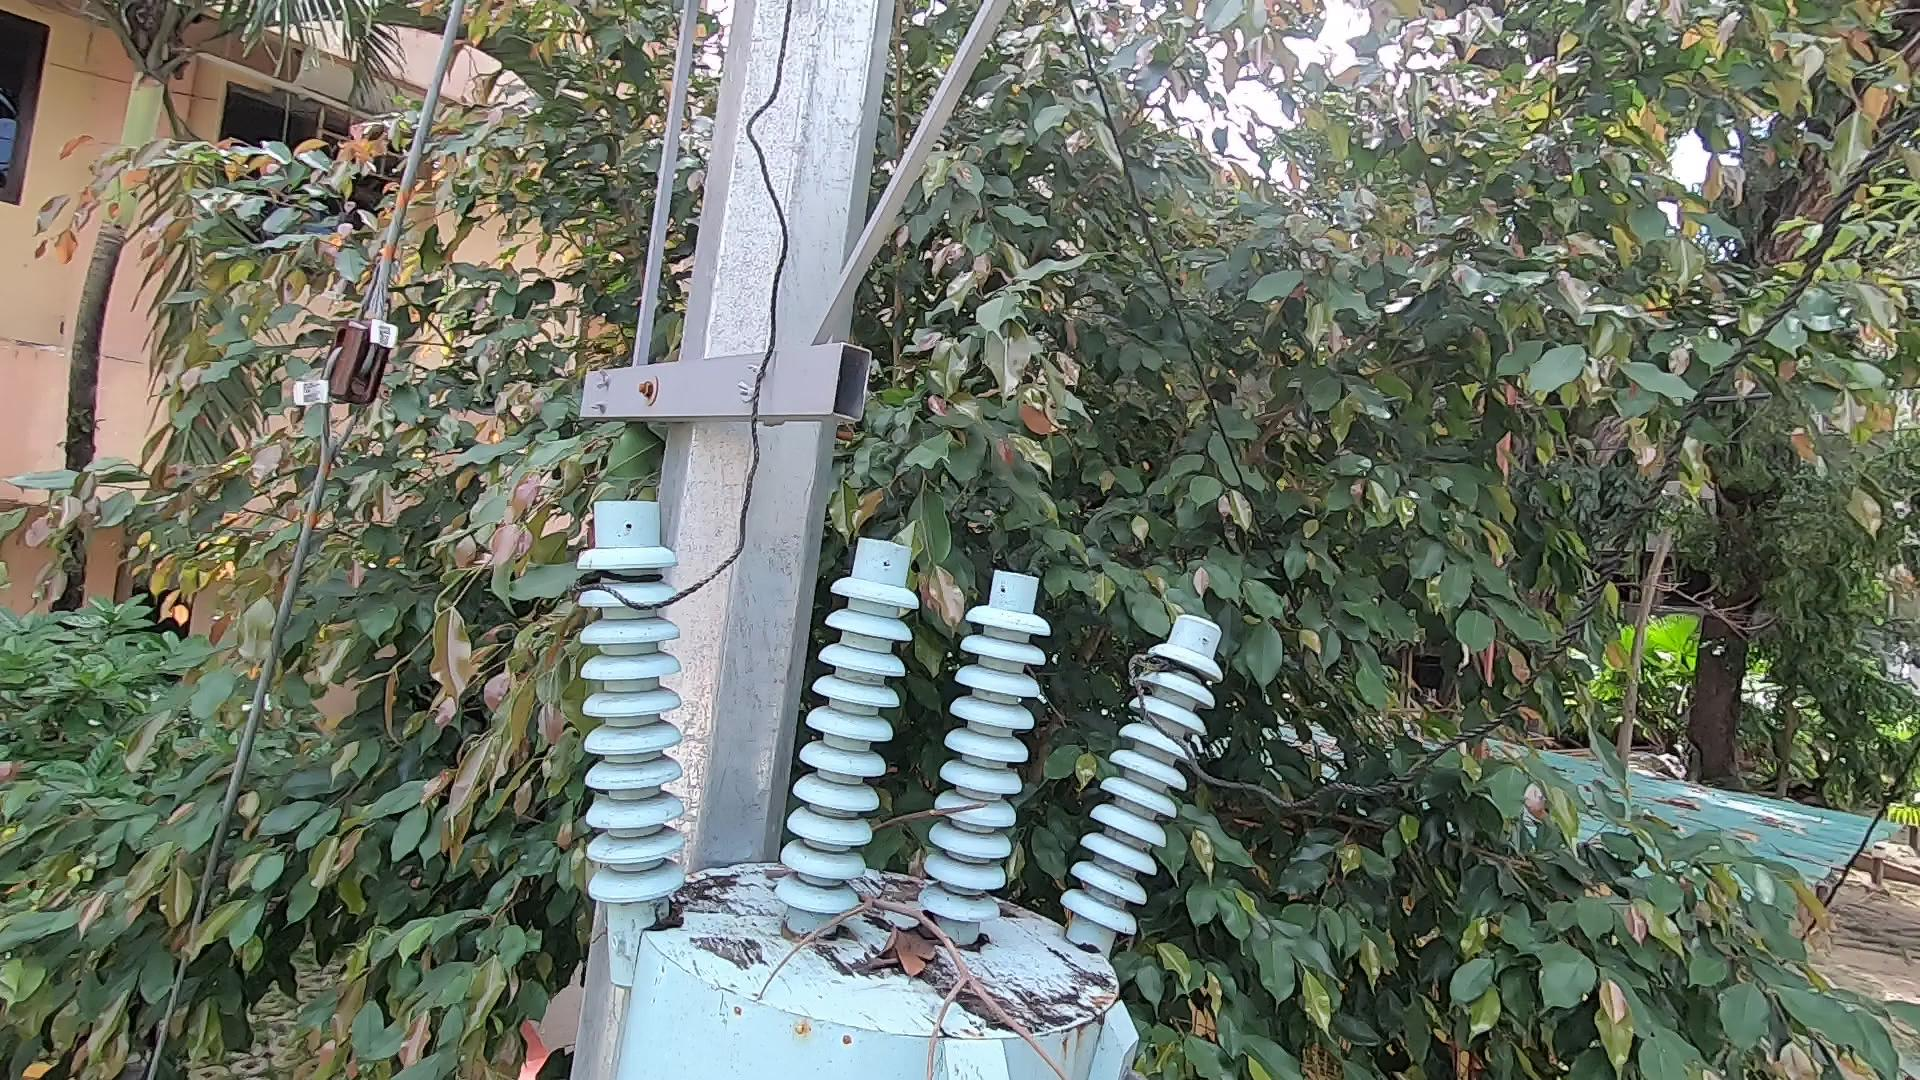leaf: (836, 894, 971, 989), (654, 884, 705, 934)
tree branch: (719, 855, 1085, 1080)
